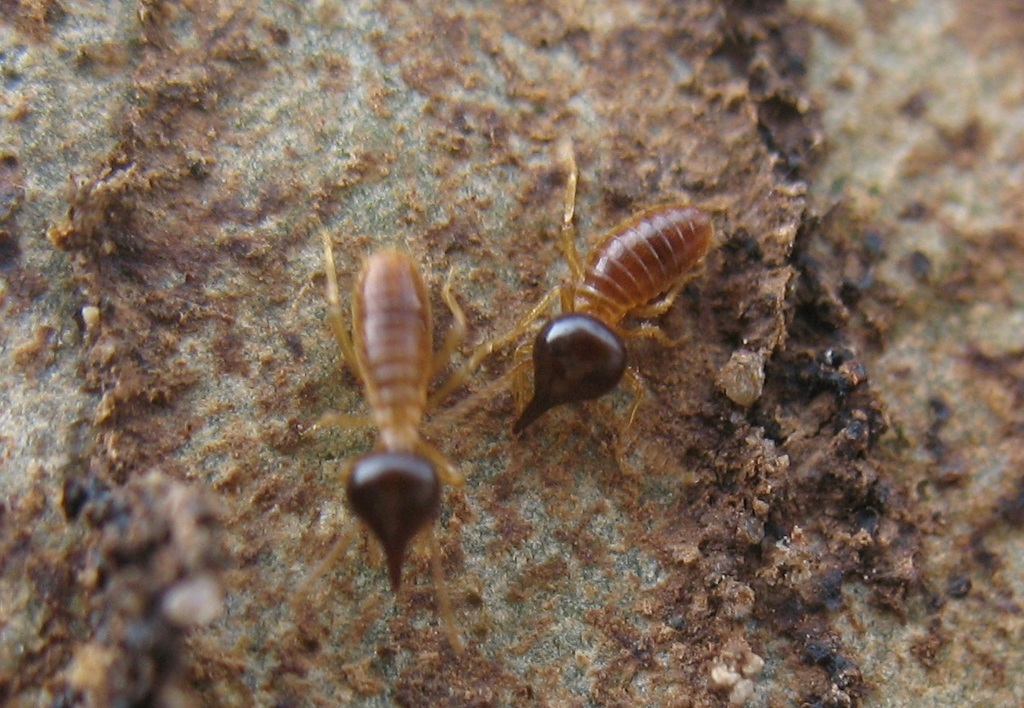nasutitermes corniger: (240, 166, 525, 631), (477, 130, 777, 492)
